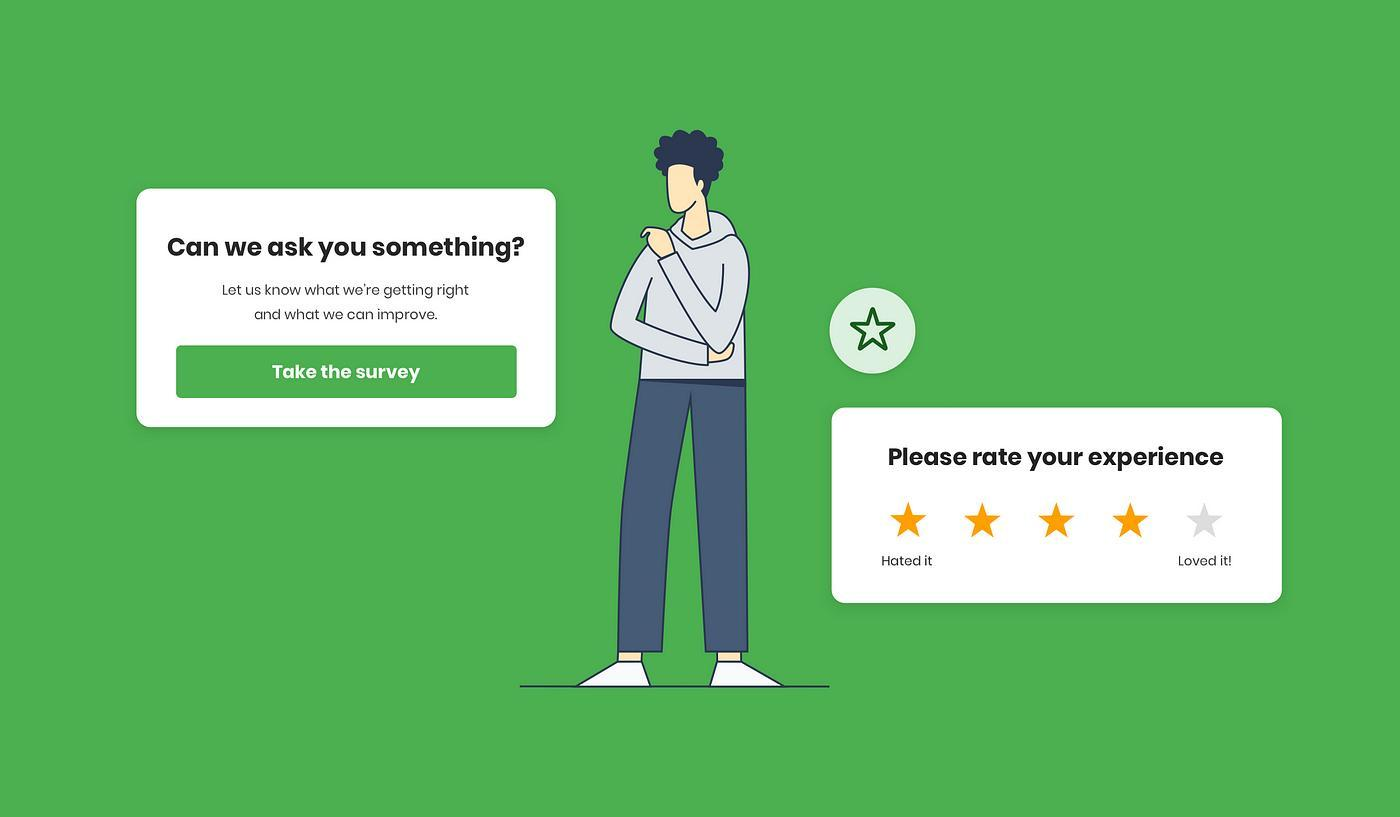button: (176, 344, 520, 401)
icon: (822, 284, 921, 380)
